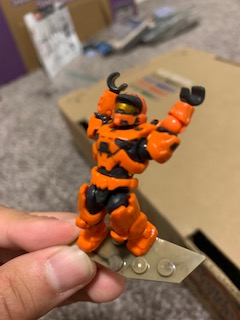spartan: (73, 72, 207, 256)
up: (85, 71, 206, 173)
